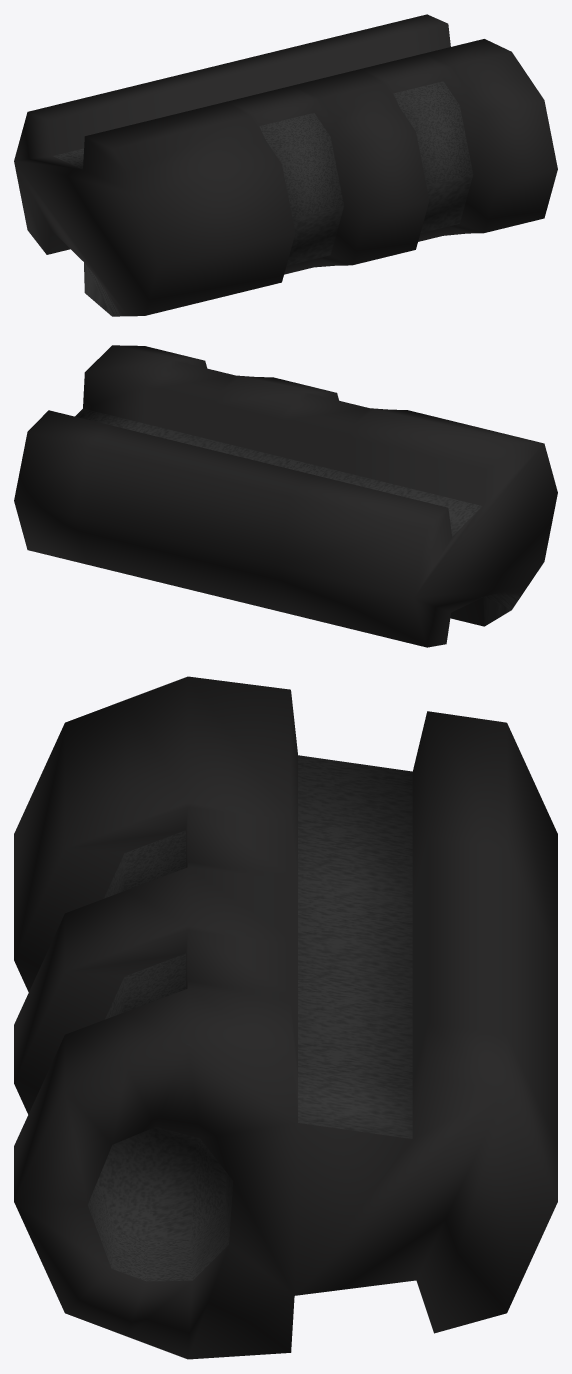
File: Handgun03_RecoilCompensator_Ground.fbx
3 renders of one model, top to bottom at view 1: azimuth 30°, elevation 25°; view 2: azimuth 150°, elevation 25°; view 3: azimuth 270°, elevation 25°, orthographic. The views are drawn at different scales.
Visible parts, largest first — view 1: Handgun02_RecoilCompensator.X__.0002_.0004; view 2: Handgun02_RecoilCompensator.X__.0002_.0004; view 3: Handgun02_RecoilCompensator.X__.0002_.0004.
Part boxes in pixels (x1=…): Handgun02_RecoilCompensator.X__.0002_.0004: x1=14, y1=14, x2=557, y2=316; Handgun02_RecoilCompensator.X__.0002_.0004: x1=14, y1=345, x2=557, y2=647; Handgun02_RecoilCompensator.X__.0002_.0004: x1=14, y1=676, x2=557, y2=1359.
Size of the model in its own units: 0.05 by 0.02 by 0.0313.
